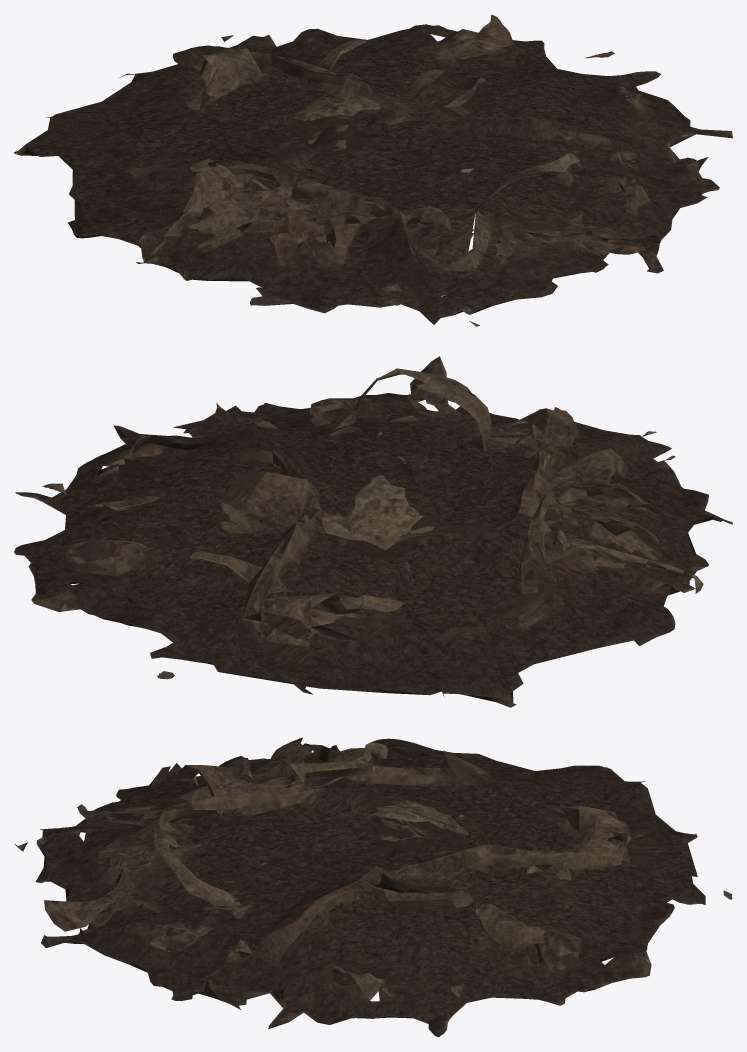
The model's file is b6-leaves.glb.
3 renders of one model, top to bottom at view 1: azimuth 30°, elevation 25°; view 2: azimuth 150°, elevation 25°; view 3: azimuth 270°, elevation 25°, orthographic. The views are drawn at different scales.
Size of the model in its own units: 1.72 by 0.219 by 1.77.
Materials: 1 (1 with a texture image).
